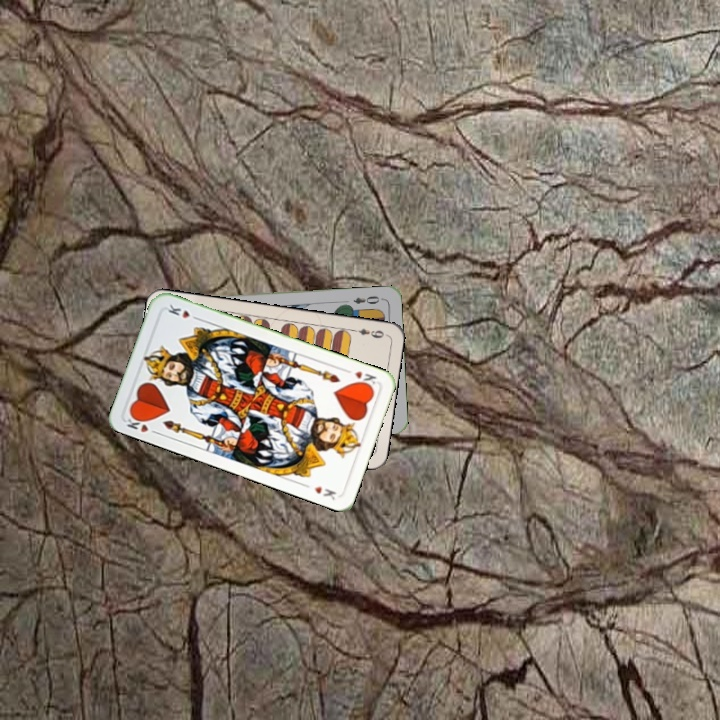E9: (348, 324, 388, 341)
EO: (349, 291, 385, 307)
HK: (122, 410, 161, 437), (351, 367, 380, 390)
